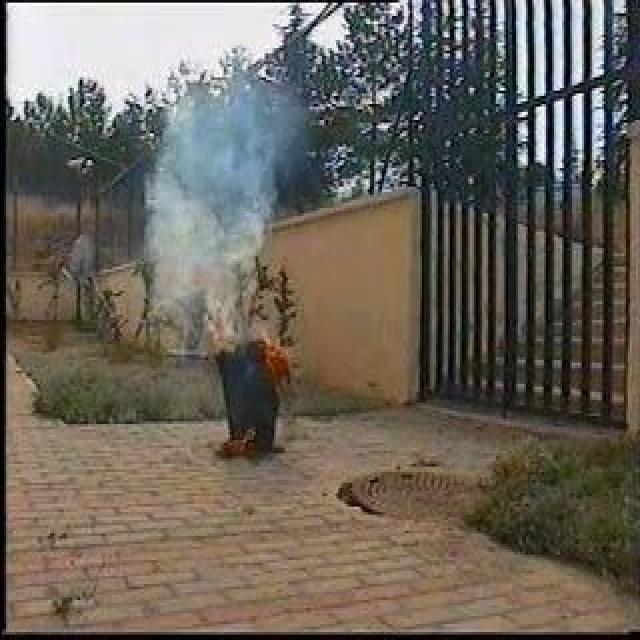fire: (262, 334, 294, 376)
smoke: (143, 88, 285, 319)
